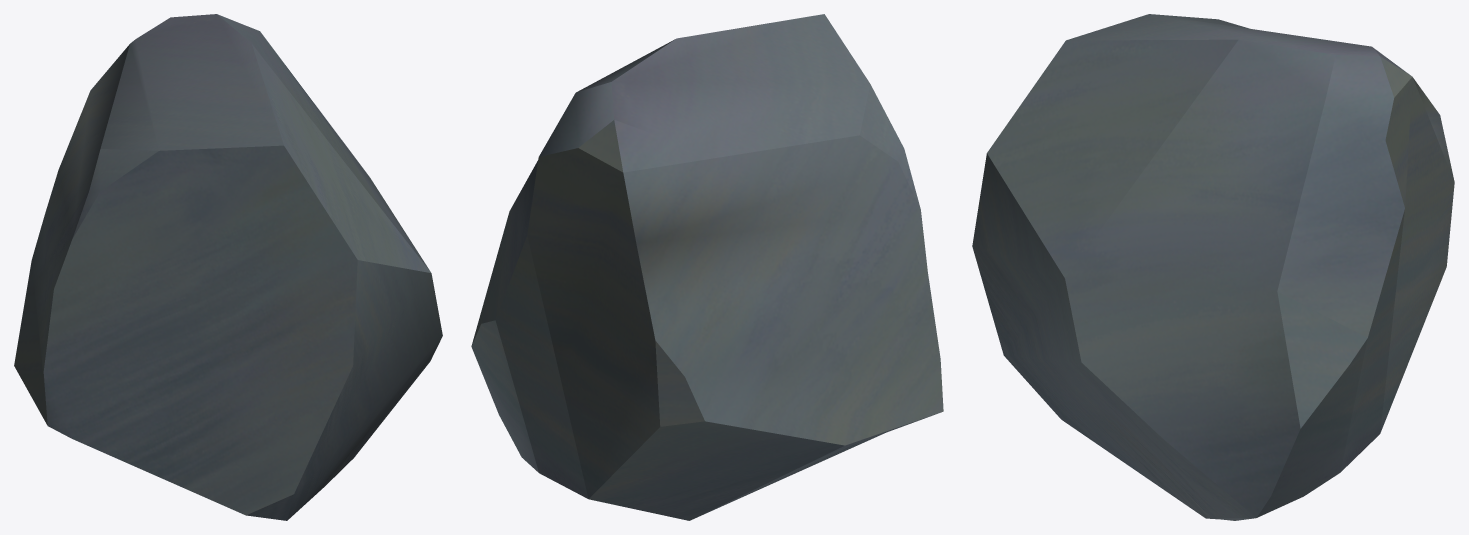
Rendered from SM_Stone_01.fbx.
3 renders of one model, left to right at view 1: azimuth 30°, elevation 25°; view 2: azimuth 150°, elevation 25°; view 3: azimuth 270°, elevation 25°, orthographic. The views are drawn at different scales.
Parts seen in each view (by area): view 1: SM_Stone_01; view 2: SM_Stone_01; view 3: SM_Stone_01.
Part boxes in pixels (x1,y1,x2,y2): SM_Stone_01: (14, 14, 442, 520); SM_Stone_01: (471, 14, 943, 520); SM_Stone_01: (972, 14, 1454, 520).
Size of the model in its own units: 276 by 302 by 293.
